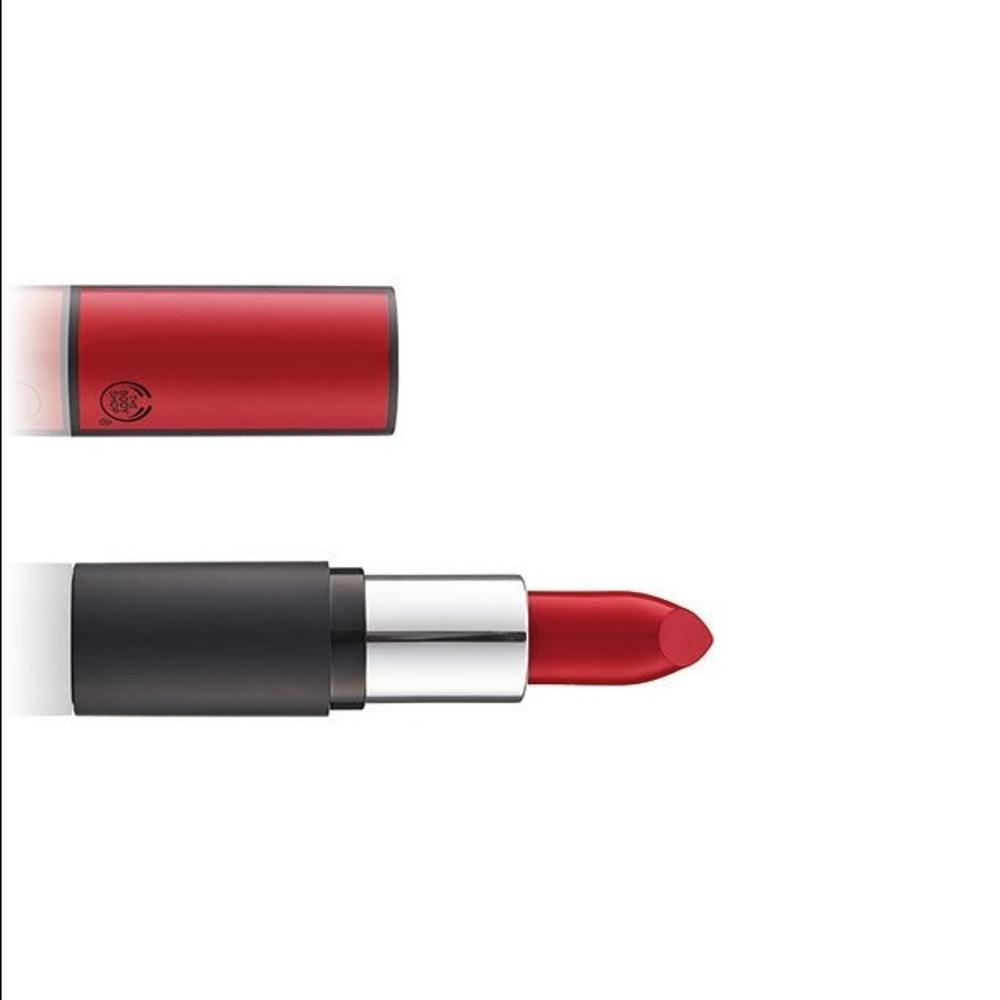lipstick: (58, 538, 723, 728)
